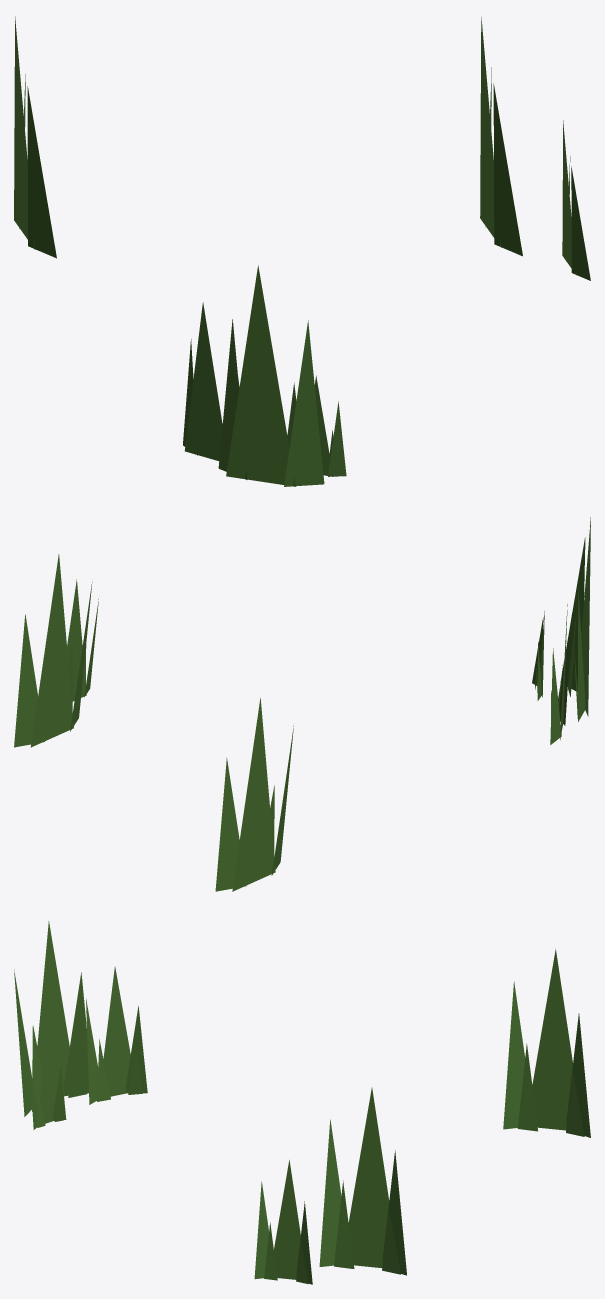
Rendered from Grass object.fbx.
3 renders of one model, top to bottom at view 1: azimuth 30°, elevation 25°; view 2: azimuth 150°, elevation 25°; view 3: azimuth 270°, elevation 25°, orthographic. The views are drawn at different scales.
Visible parts, largest first — view 1: Grass object; view 2: Grass object; view 3: Grass object.
Part boxes in pixels (<box>): Grass object: <box>14,16,590,486</box>; Grass object: <box>14,517,590,891</box>; Grass object: <box>14,921,590,1284</box>.
Bounding box in the file's own units: 66.12 × 22.71 × 52.44.
